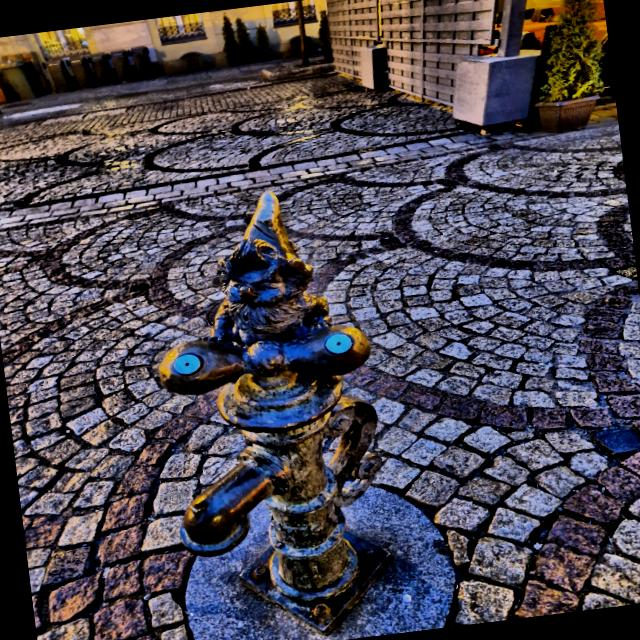Orzezwiacz: (157, 192, 388, 627)
